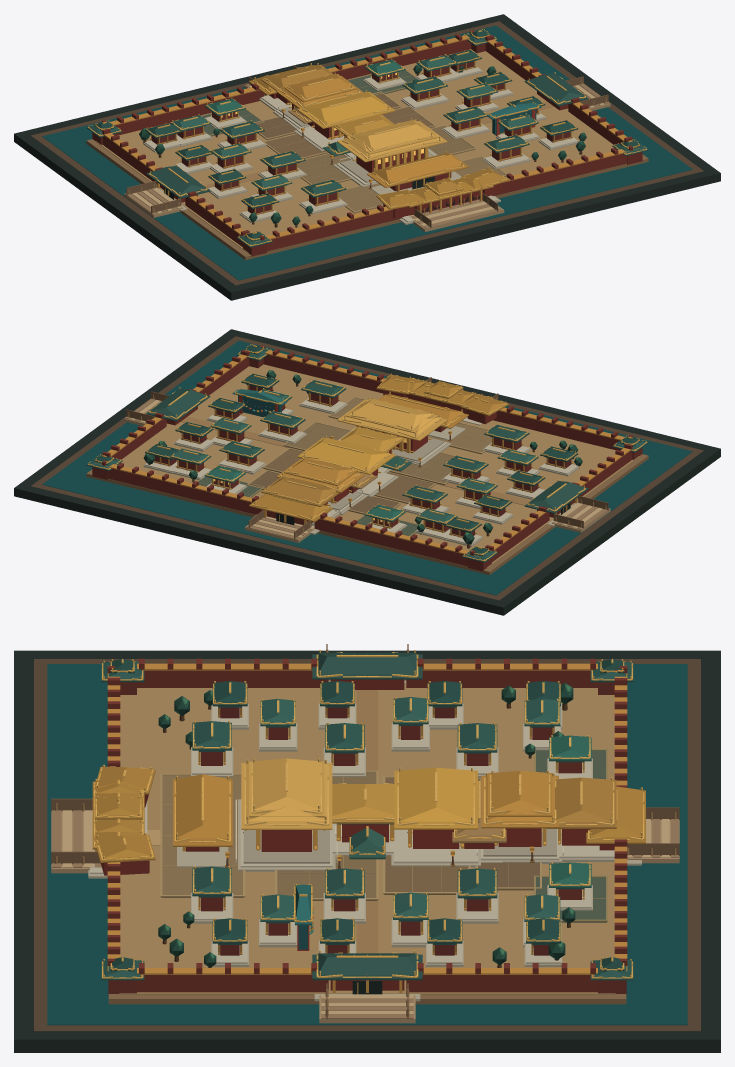
The model's file is forbidden-city-atlas.glb.
The picture shows the model from 3 angles, top to bottom: view 1: azimuth 30°, elevation 25°; view 2: azimuth 150°, elevation 25°; view 3: azimuth 270°, elevation 25°; orthographic projection. The views are drawn at different scales.
Parts seen in each view (by area): view 1: object 1, object 3, outer-wall (×4), object 5, roof (×11), object 2, courtyard (×5), palace-building (×10), object 4, stone-bridge (×2), landmark:hall-of-supreme-harmony, landmark:meridian-gate (+3 smaller); view 2: object 1, object 3, outer-wall (×4), roof (×13), object 5, object 2, courtyard (×4), palace-building (×7), object 4, stone-bridge (×2), landmark:hall-of-supreme-harmony, object 7 (+3 smaller); view 3: roof (×39), object 3, object 5, object 1, outer-wall (×4), object 2, palace-building (×16), courtyard (×6), stone-bridge (×3), object 4, landmark:hall-of-supreme-harmony, landmark:hall-of-preserving-harmony (+9 smaller).
Part boxes in pixels (bbox=[...]): object 1: bbox=[14, 14, 720, 300]; object 3: bbox=[42, 25, 692, 280]; outer-wall (×4): bbox=[102, 30, 639, 251]; object 5: bbox=[95, 49, 613, 252]; roof (×11): bbox=[146, 63, 588, 209]; object 2: bbox=[31, 21, 703, 285]; courtyard (×5): bbox=[254, 70, 506, 213]; palace-building (×10): bbox=[176, 88, 578, 214]; object 4: bbox=[86, 139, 648, 260]; stone-bridge (×2): bbox=[124, 188, 504, 231]; landmark:hall-of-supreme-harmony: bbox=[333, 147, 437, 187]; landmark:meridian-gate: bbox=[399, 181, 500, 224]; object 1: bbox=[14, 329, 720, 615]; object 3: bbox=[42, 340, 692, 595]; outer-wall (×4): bbox=[95, 345, 632, 566]; roof (×13): bbox=[146, 373, 588, 522]; object 5: bbox=[121, 364, 639, 567]; object 2: bbox=[31, 336, 703, 600]; courtyard (×4): bbox=[246, 396, 491, 514]; palace-building (×7): bbox=[174, 391, 579, 524]; object 4: bbox=[86, 454, 648, 575]; stone-bridge (×2): bbox=[244, 503, 610, 542]; landmark:hall-of-supreme-harmony: bbox=[338, 426, 451, 465]; object 7: bbox=[181, 416, 530, 505]; roof (×39): bbox=[92, 650, 645, 980]; object 3: bbox=[47, 664, 687, 1025]; object 5: bbox=[119, 682, 615, 994]; object 1: bbox=[14, 650, 720, 1052]; outer-wall (×4): bbox=[107, 658, 627, 992]; object 2: bbox=[34, 659, 700, 1031]; palace-building (×16): bbox=[191, 703, 592, 966]; courtyard (×6): bbox=[160, 748, 607, 922]; stone-bridge (×3): bbox=[51, 810, 679, 1023]; object 4: bbox=[108, 994, 626, 1004]; landmark:hall-of-supreme-harmony: bbox=[235, 799, 341, 871]; landmark:hall-of-preserving-harmony: bbox=[391, 829, 480, 867].
Bounding box in the file's own units: 69 × 6.89 × 53.
